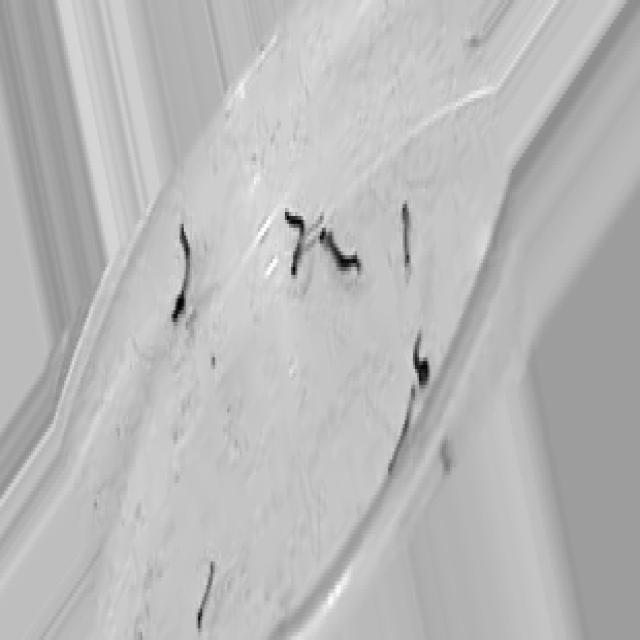larvas: (386, 384, 415, 480), (174, 222, 191, 322), (321, 228, 359, 272), (280, 214, 304, 275), (199, 566, 216, 627), (412, 332, 429, 390), (399, 200, 411, 272), (301, 211, 324, 242)
